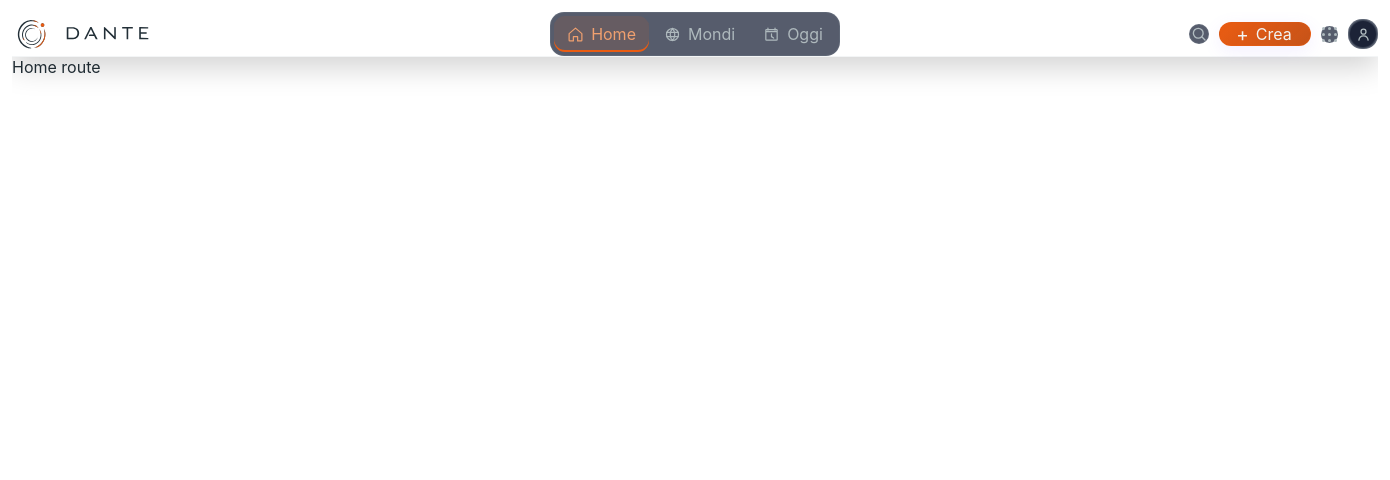
GlobalTopbar › keeps create truthful and exposes launcher/account shells without fake writes
Click the button "+ Crea" at (1265, 34), box [1219,22,1311,46]
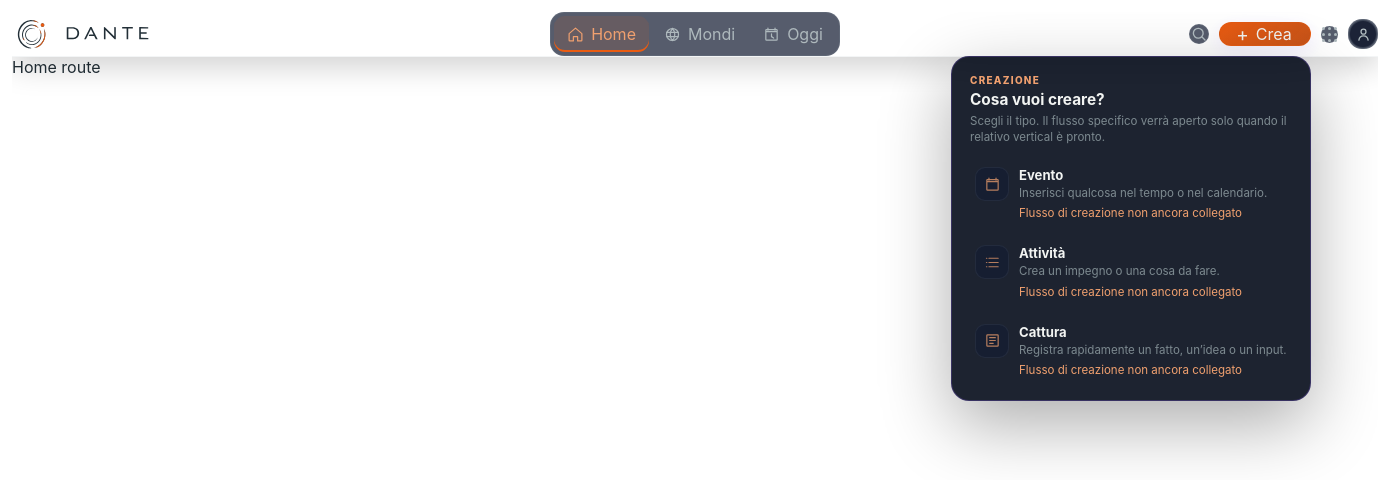
Result: the menu "Crea" is shown at [951,56,1311,401]
Click the button named "Apri launcher" at (1330, 34), box [1321,26,1338,42]
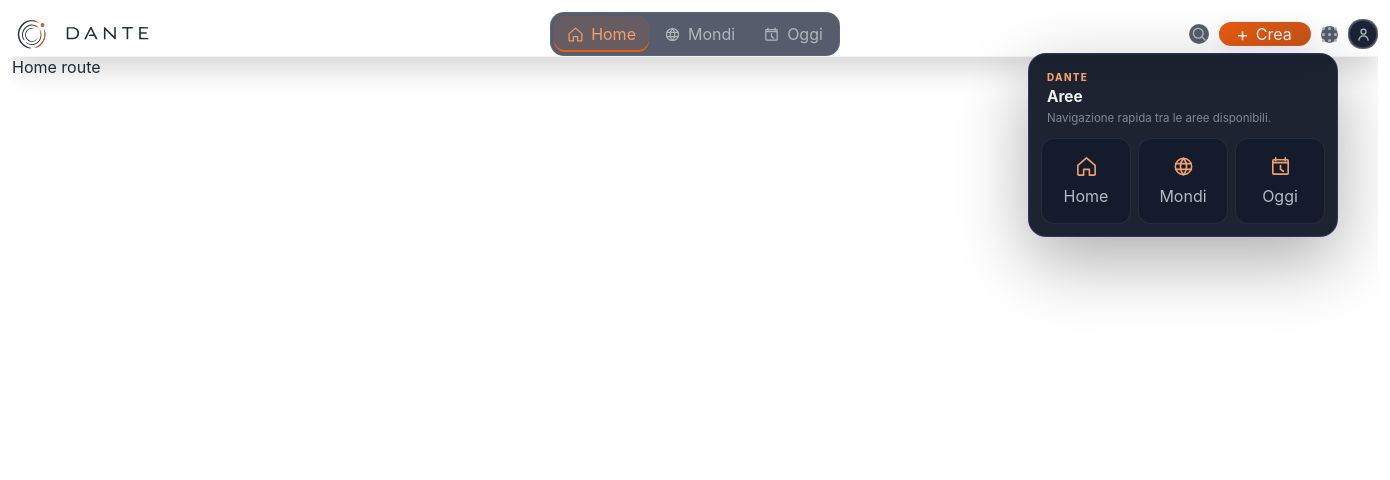
Expected: the 6th icon is shown, [1354,26,1372,42]
Result: the menu named "Launcher DANTE" is shown at [1028,52,1338,237]
Click the button named "Account" at (1363, 34), box [1348,19,1378,49]
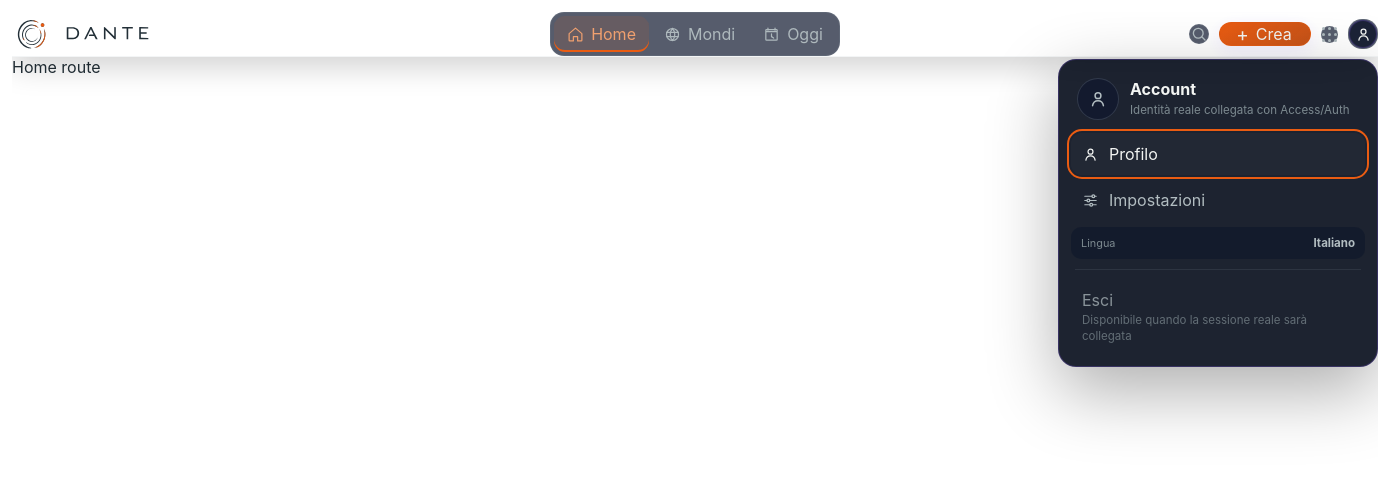
Result: the menu named "Menu account" is shown at [1058,59,1378,367]
